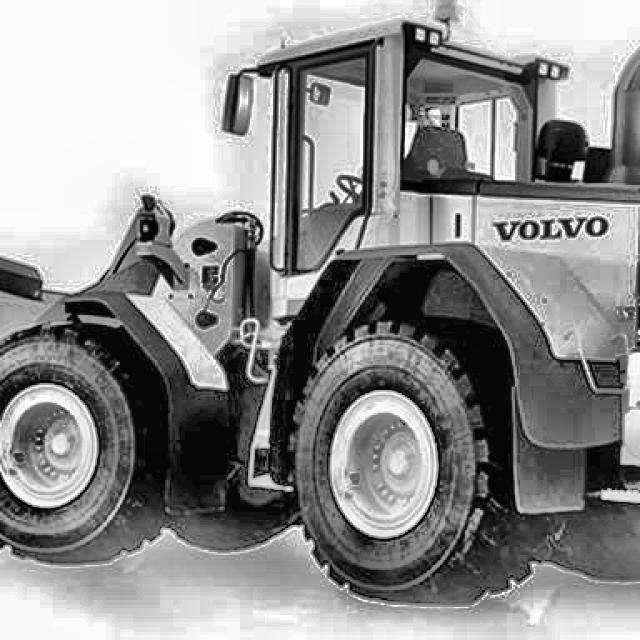buldozerpayloadergrader: (0, 0, 640, 622)
